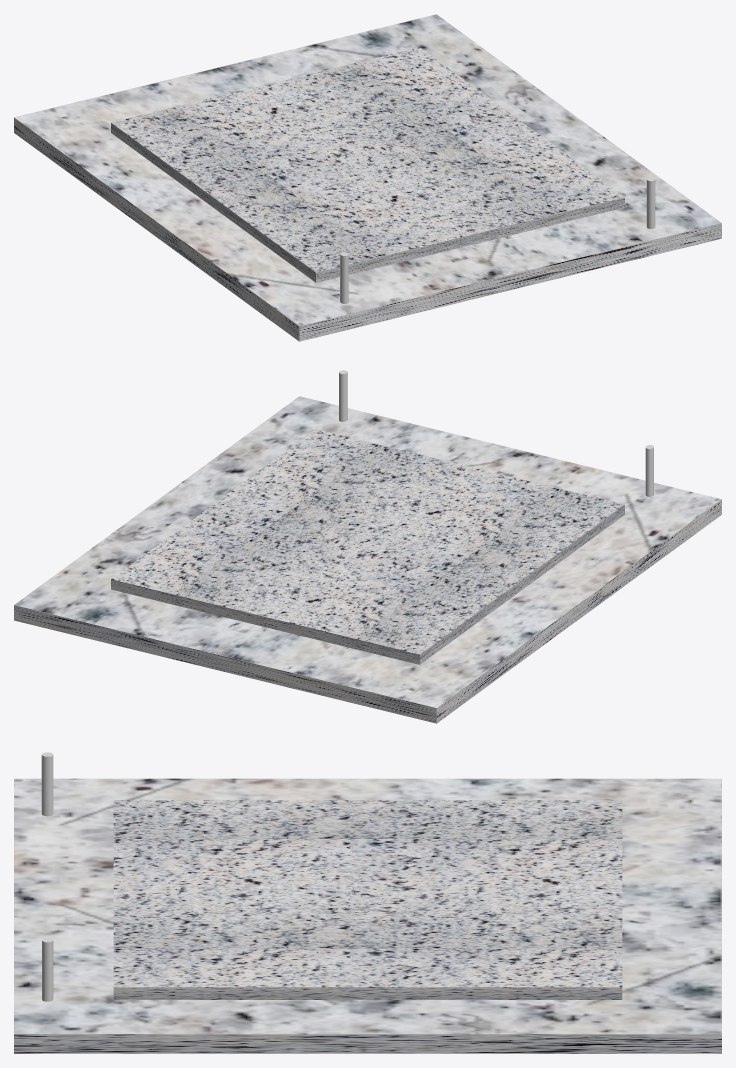
File: tablado5.gltf
The picture shows the model from 3 angles, top to bottom: view 1: azimuth 30°, elevation 25°; view 2: azimuth 150°, elevation 25°; view 3: azimuth 270°, elevation 25°; orthographic projection. The views are drawn at different scales.
Parts seen in each view (by area): view 1: Cube.001, Cube.002; view 2: Cube.001, Cube.002; view 3: Cube.001, Cube.002, Cylinder.002, Cylinder.000.
Part boxes in pixels (x1,y1,x2,y2): Cube.001: (111,47,624,282); Cube.002: (14,14,721,341); Cube.001: (111,429,624,664); Cube.002: (14,396,721,723); Cube.001: (113,800,622,999); Cube.002: (14,778,721,1053); Cylinder.002: (41,752,53,816); Cylinder.000: (42,938,53,1001).
Bounding box in the file's own units: 4.86 × 0.6964 × 5.68.
4 materials, 2 textured.
